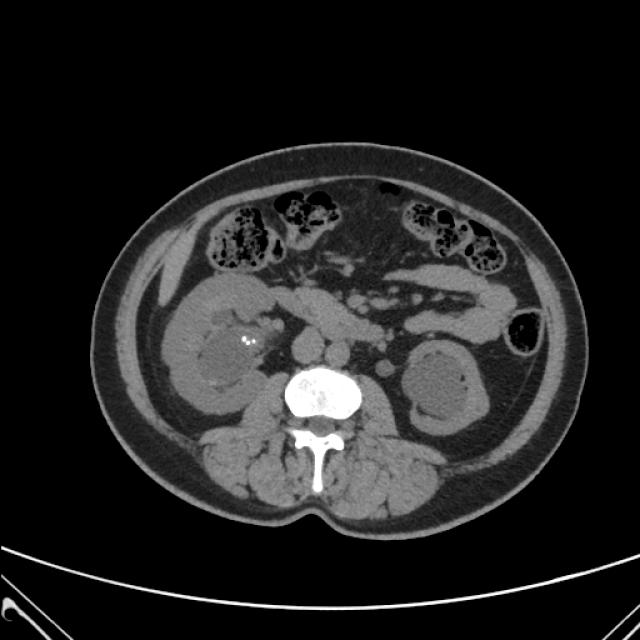kidney: (162, 274, 280, 416), (400, 340, 493, 437)
stone: (240, 334, 246, 341), (251, 336, 257, 343), (246, 340, 251, 345)
